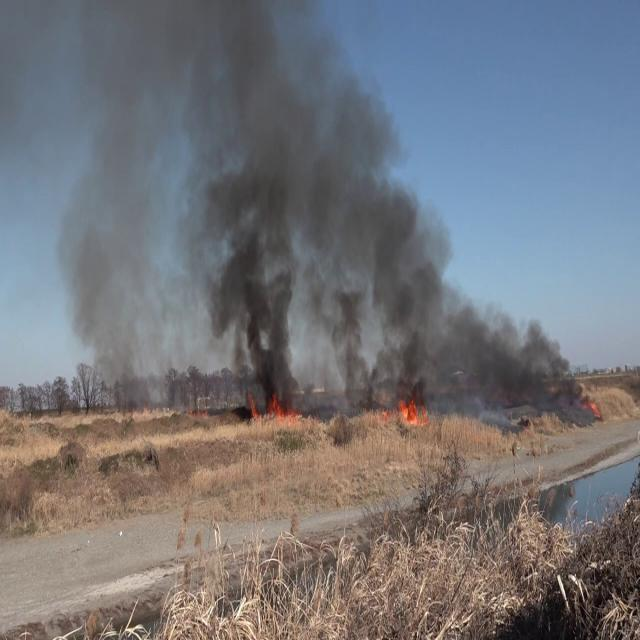Fire: (395, 384, 430, 429)
Smoke: (52, 0, 460, 404), (436, 289, 594, 414)
